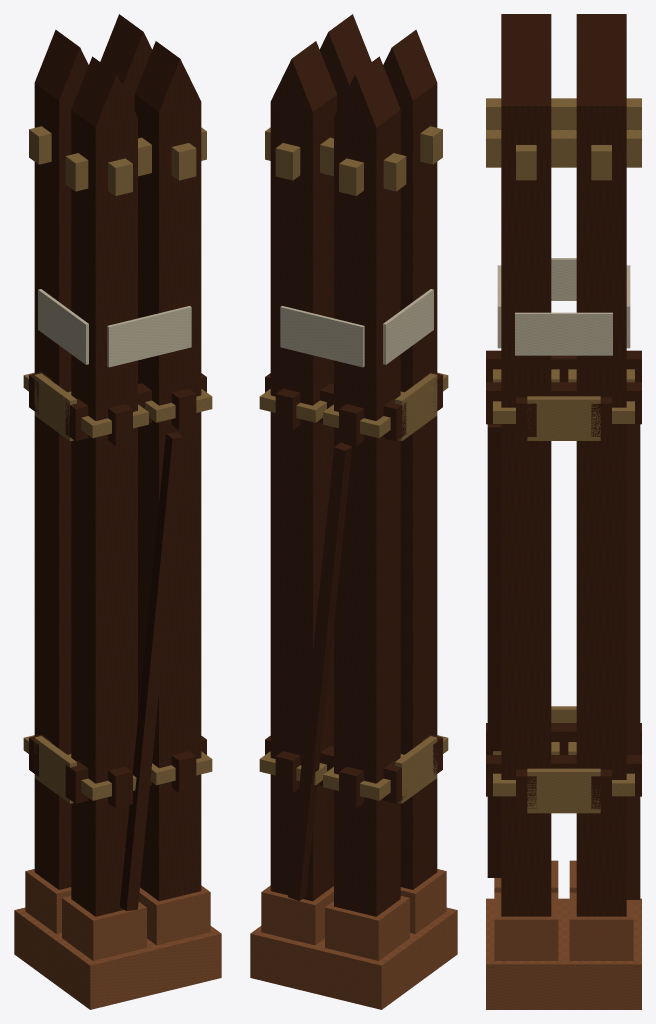
The model's file is Berber_PalisadeBastion_Age3_straight.fbx.
3 renders of one model, left to right at view 1: azimuth 30°, elevation 25°; view 2: azimuth 150°, elevation 25°; view 3: azimuth 270°, elevation 25°, orthographic. The views are drawn at different scales.
Parts seen in each view (by area): view 1: split_timber_upright.004, split_timber_upright.006, split_timber_upright.005, compacted_earth_footing.001, terminal_diagonal_stay.008, earth_post_socket.004, native_owner_stripe_source.006, earth_post_socket.006, split_timber_upright.007, native_owner_stripe_source.004, earth_post_socket.005, exposed_wall_socket_collar.005 (+14 smaller); view 2: split_timber_upright.005, split_timber_upright.007, split_timber_upright.004, compacted_earth_footing.001, terminal_diagonal_stay.006, earth_post_socket.005, native_owner_stripe_source.007, earth_post_socket.007, split_timber_upright.006, native_owner_stripe_source.004, earth_post_socket.004, exposed_wall_socket_collar.005 (+14 smaller); view 3: split_timber_upright.006, split_timber_upright.007, compacted_earth_footing.001, terminal_diagonal_stay.006, terminal_diagonal_stay.008, native_owner_stripe_source.005, earth_post_socket.006, earth_post_socket.007, exposed_wall_socket_collar.002, exposed_wall_socket_collar.003, locking_head_tie_y.003, locking_head_tie_y.002 (+17 smaller).
Part boxes in pixels (x1,y1,x2,y2): split_timber_upright.004: [71, 56, 137, 916]; split_timber_upright.006: [134, 41, 201, 901]; split_timber_upright.005: [34, 30, 88, 889]; compacted_earth_footing.001: [14, 907, 221, 1009]; terminal_diagonal_stay.008: [119, 432, 183, 911]; earth_post_socket.004: [62, 896, 146, 960]; native_owner_stripe_source.006: [107, 306, 191, 367]; earth_post_socket.006: [138, 885, 210, 945]; split_timber_upright.007: [100, 14, 152, 109]; native_owner_stripe_source.004: [38, 289, 88, 364]; earth_post_socket.005: [25, 869, 71, 933]; exposed_wall_socket_collar.005: [34, 373, 76, 441]; split_timber_upright.005: [334, 56, 400, 916]; split_timber_upright.007: [270, 41, 337, 901]; split_timber_upright.004: [383, 30, 437, 889]; compacted_earth_footing.001: [250, 907, 457, 1009]; terminal_diagonal_stay.006: [288, 442, 352, 900]; earth_post_socket.005: [325, 896, 409, 960]; native_owner_stripe_source.007: [280, 306, 364, 367]; earth_post_socket.007: [261, 885, 333, 945]; split_timber_upright.006: [319, 14, 371, 109]; native_owner_stripe_source.004: [383, 289, 433, 364]; earth_post_socket.004: [400, 869, 446, 933]; exposed_wall_socket_collar.005: [395, 373, 437, 441]; split_timber_upright.006: [501, 46, 551, 916]; split_timber_upright.007: [576, 46, 626, 916]; compacted_earth_footing.001: [486, 898, 641, 1009]; terminal_diagonal_stay.006: [626, 424, 640, 899]; terminal_diagonal_stay.008: [487, 424, 501, 877]; native_owner_stripe_source.005: [515, 312, 612, 355]; earth_post_socket.006: [494, 892, 558, 960]; earth_post_socket.007: [569, 892, 633, 960]; exposed_wall_socket_collar.002: [527, 768, 600, 813]; exposed_wall_socket_collar.003: [527, 396, 600, 440]; locking_head_tie_y.003: [486, 130, 641, 167]; locking_head_tie_y.002: [486, 98, 641, 129].
Bounding box in the file's own units: 68.29 × 458 × 68.29.
Materials: 4 (4 with a texture image).
